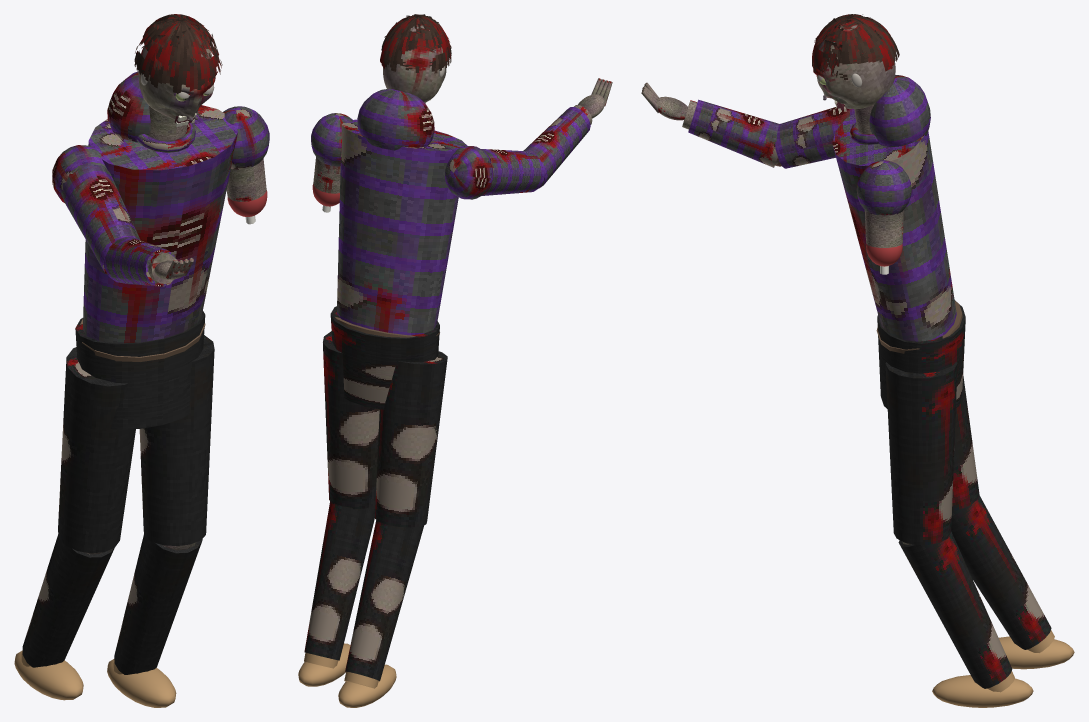
The model's file is Zombie_069.glb.
3 renders of one model, left to right at view 1: azimuth 30°, elevation 25°; view 2: azimuth 150°, elevation 25°; view 3: azimuth 270°, elevation 25°, orthographic. The views are drawn at different scales.
Parts seen in each view (by area): view 1: Zombie_069, object 36, object 4, object 10, object 3; view 2: Zombie_069, object 4, object 36, object 10; view 3: Zombie_069, object 4, object 36, object 10.
Part boxes in pixels (x1,y1,x2,y2): Zombie_069: (14, 71, 269, 707); object 36: (134, 14, 218, 91); object 4: (103, 237, 175, 286); object 10: (138, 45, 215, 119); object 3: (148, 252, 174, 283); Zombie_069: (298, 88, 544, 707); object 4: (523, 107, 590, 188); object 36: (380, 14, 451, 70); object 10: (383, 25, 446, 102); Zombie_069: (775, 75, 1074, 707); object 4: (688, 99, 779, 167); object 36: (812, 14, 899, 77); object 10: (813, 23, 895, 109).
Bounding box in the file's own units: 0.6419 × 2.02 × 1.18.
Materials: 18 (6 with a texture image).
